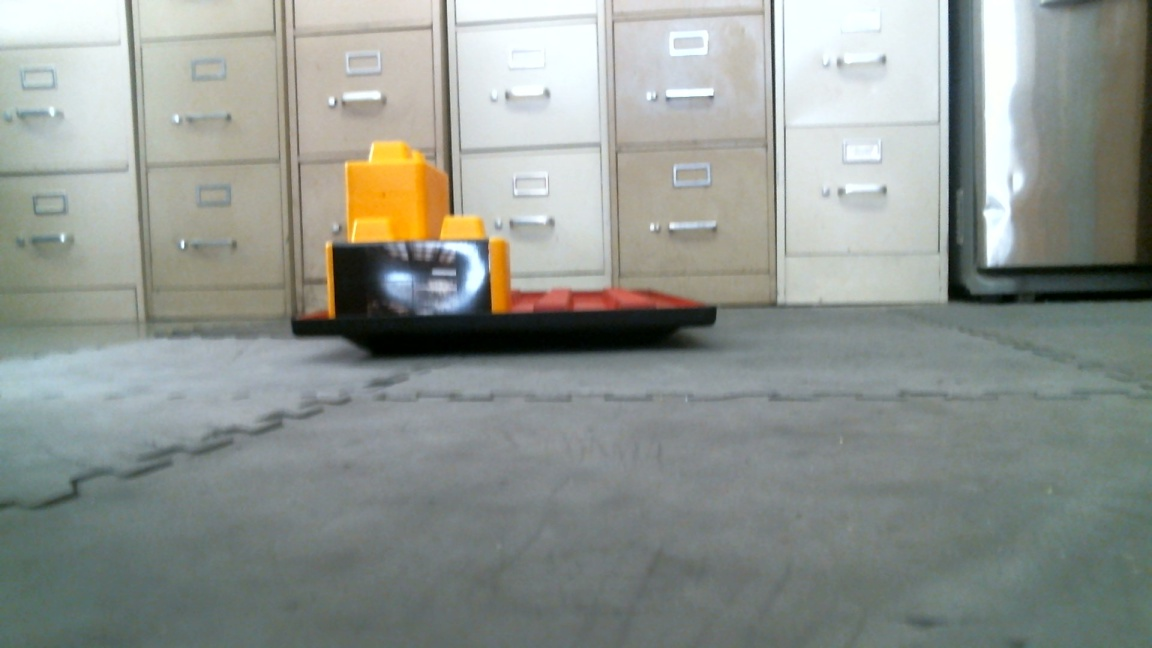red_foundation: (513, 288, 718, 351)
skystone: (323, 209, 499, 313)
stone: (342, 142, 446, 234)
